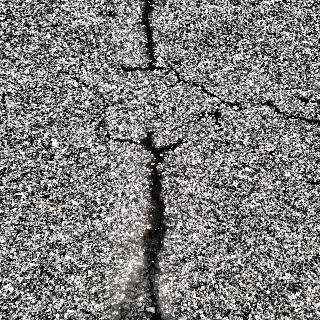pothole: (102, 123, 188, 320), (158, 65, 320, 129), (112, 1, 166, 74)
